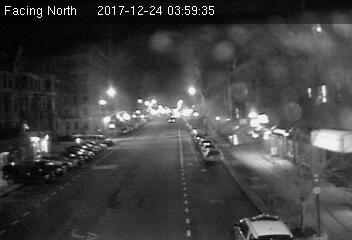car: (201, 146, 224, 165)
police: (231, 208, 295, 240)
